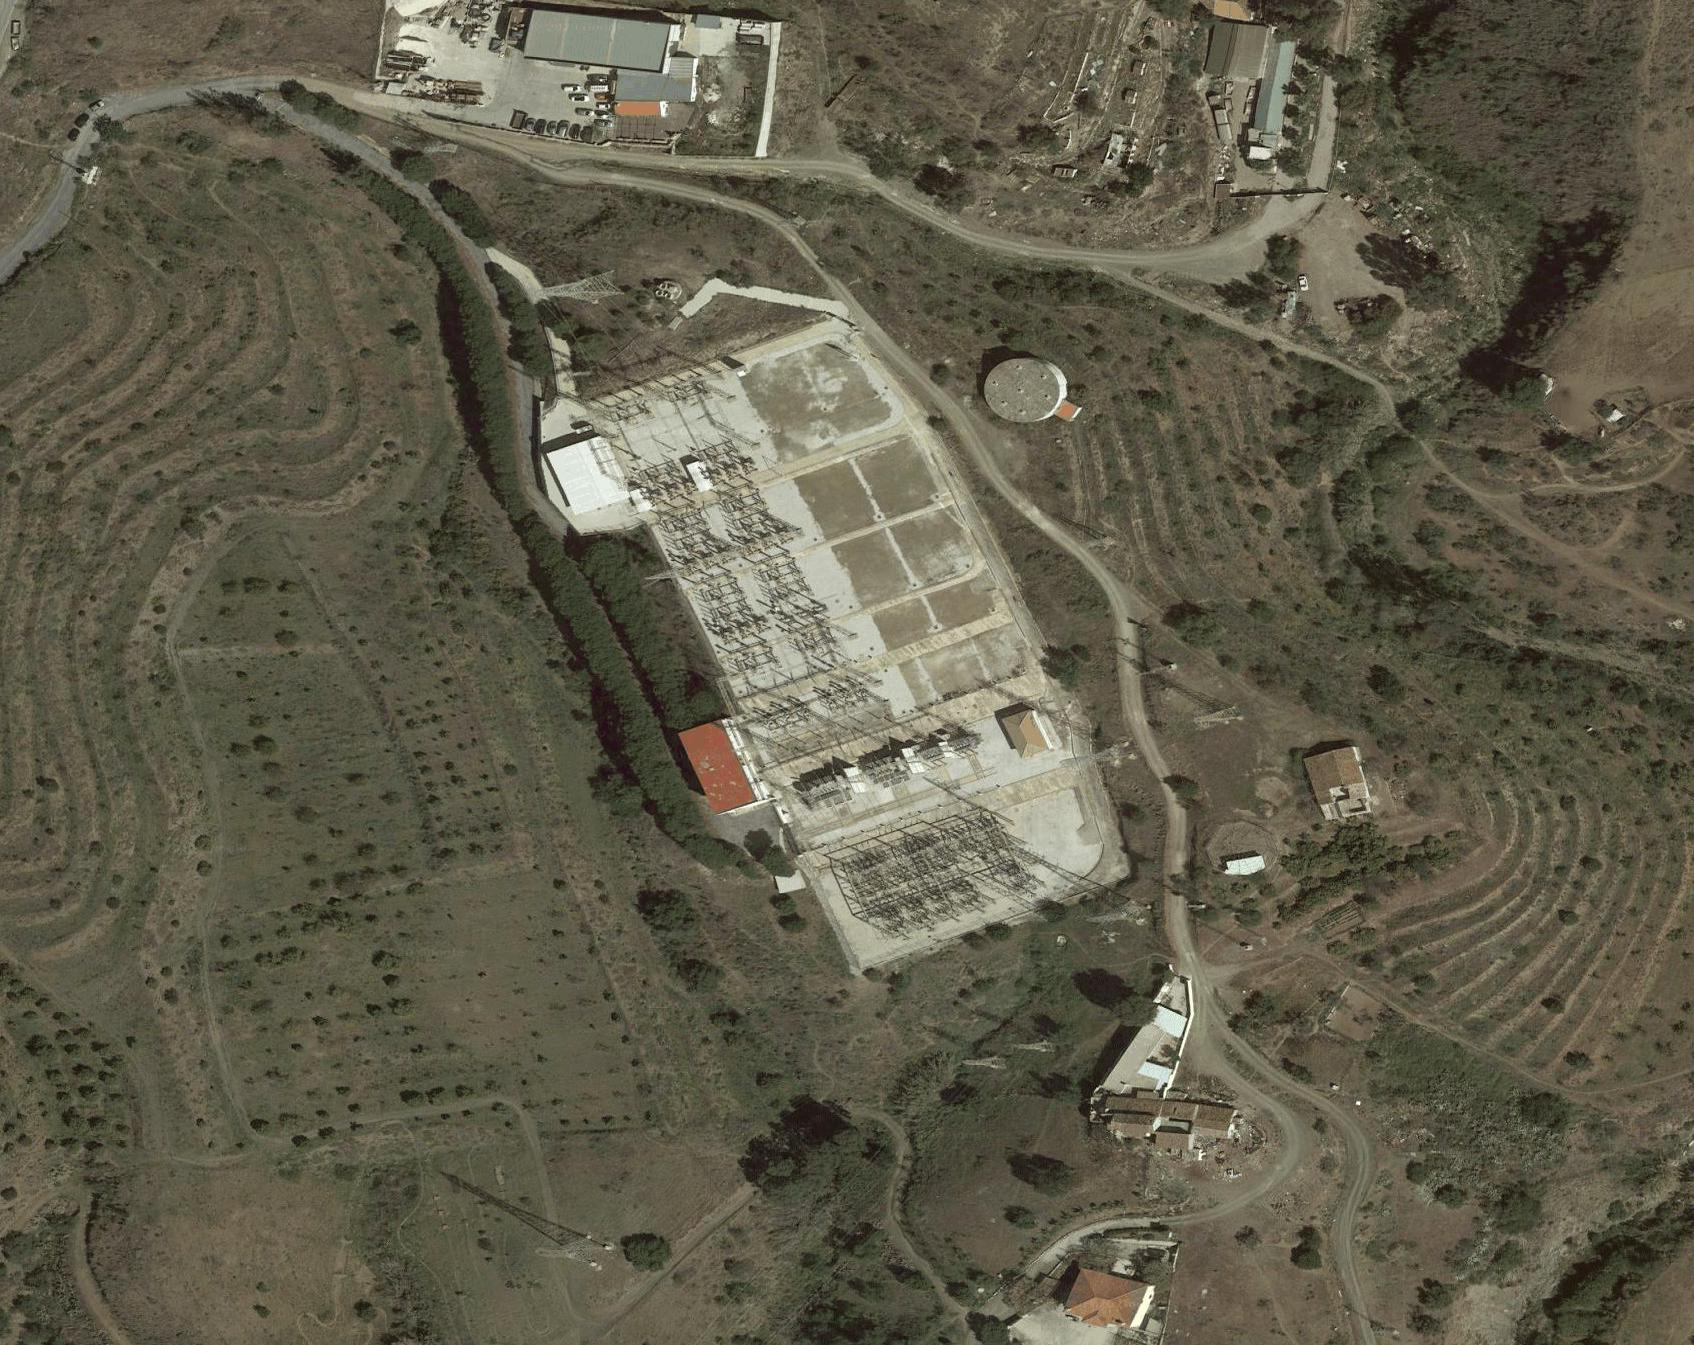substation: (584, 363, 1050, 946)
